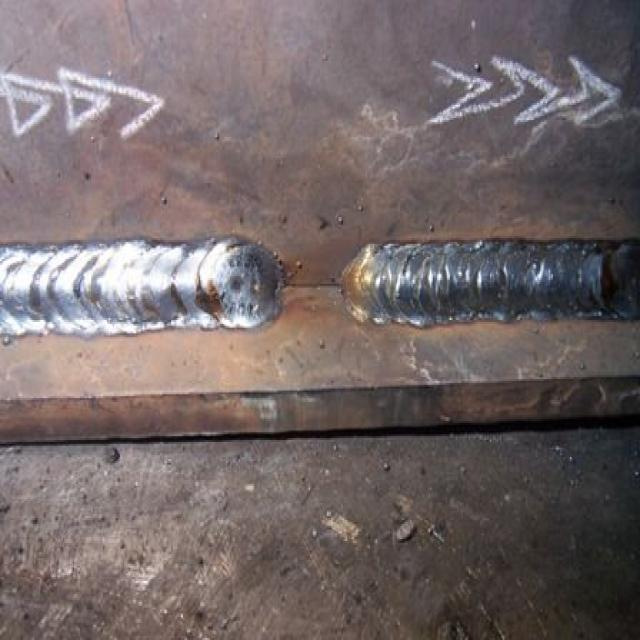Good Weld: (0, 238, 206, 330), (383, 238, 600, 322)
